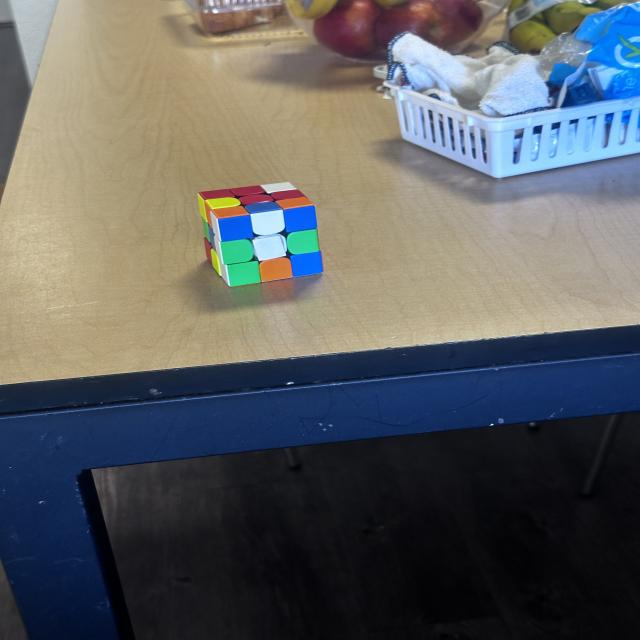sticker: (211, 208, 254, 242), (198, 189, 236, 223), (247, 204, 286, 237), (282, 202, 318, 233), (224, 260, 262, 288), (250, 233, 288, 261), (288, 250, 324, 278), (218, 238, 254, 265), (204, 200, 238, 228), (258, 256, 293, 282), (286, 228, 321, 254), (210, 205, 250, 223), (276, 196, 314, 211), (259, 182, 296, 196), (205, 197, 241, 211), (202, 188, 238, 201), (238, 193, 274, 206), (269, 189, 305, 201), (238, 186, 268, 197), (197, 194, 208, 223), (204, 238, 214, 264), (210, 252, 220, 276), (203, 221, 212, 243)
